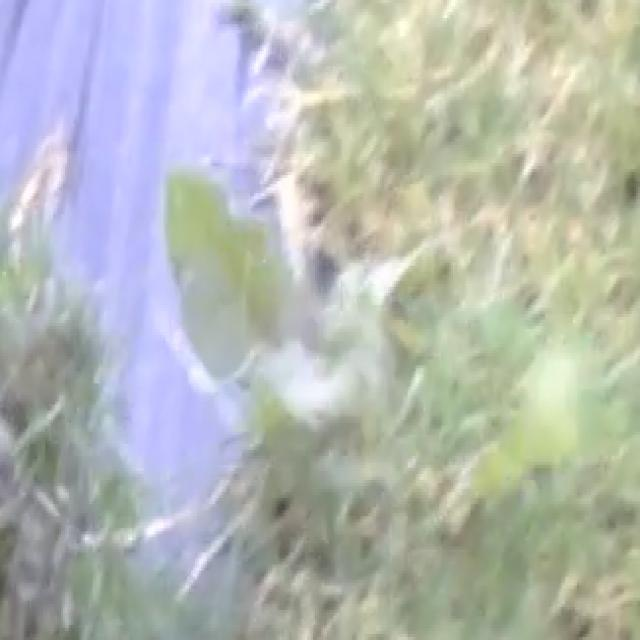organic waste: (128, 122, 620, 548)
